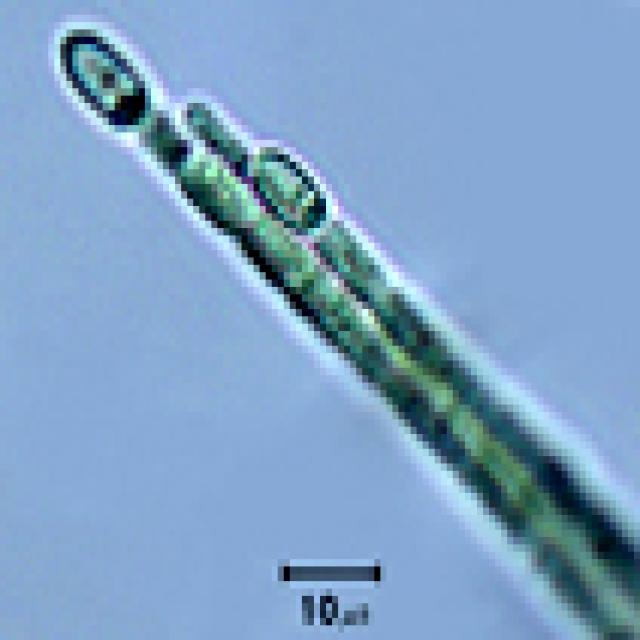Blue Green Algae: (248, 140, 326, 235), (181, 88, 248, 177), (320, 213, 386, 302), (241, 221, 302, 294), (302, 272, 356, 353), (187, 170, 248, 236), (133, 96, 187, 169)
